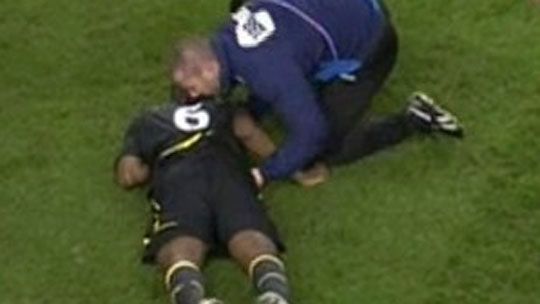collapsed: (51, 39, 317, 302)
